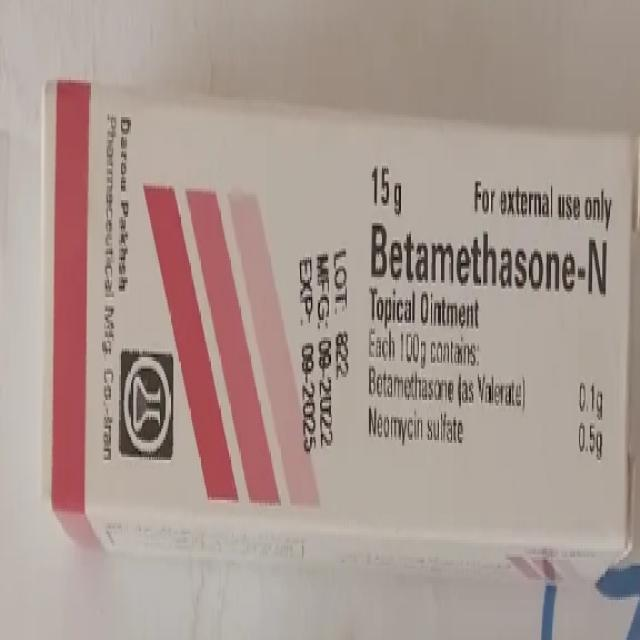drug-name: (369, 220, 611, 296)
